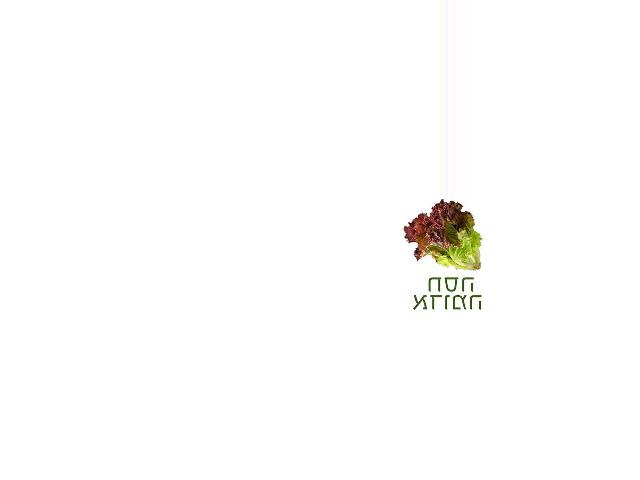lettuce: (402, 199, 489, 273)
